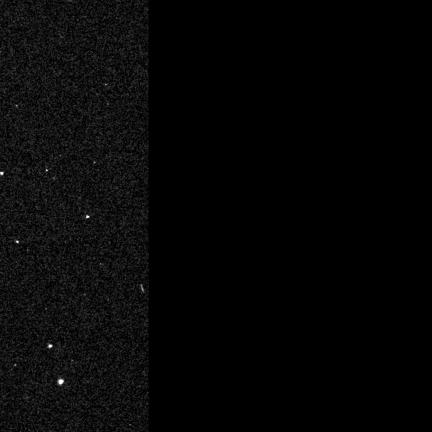blob: (59, 380, 63, 385), (14, 364, 17, 367), (0, 172, 3, 175), (49, 345, 52, 348), (16, 241, 19, 244), (86, 216, 89, 218), (46, 170, 48, 172)
